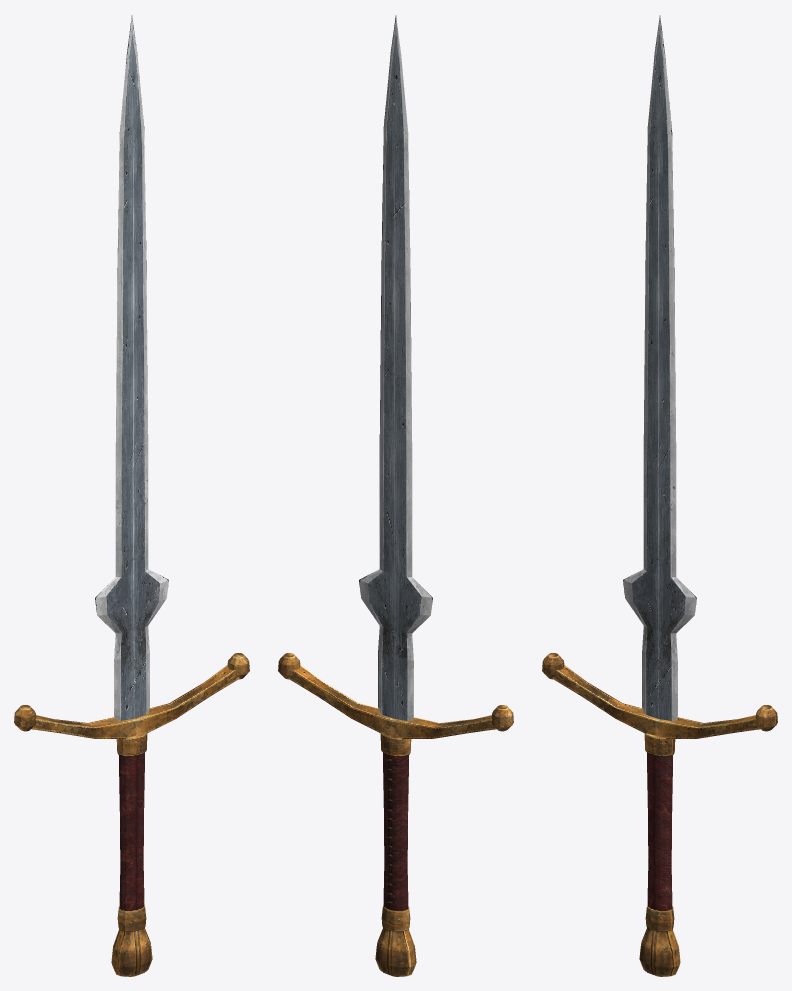
Rendered from claymore.glb.
3 views of the same model, side by side, from view 1: azimuth 30°, elevation 25°; view 2: azimuth 150°, elevation 25°; view 3: azimuth 330°, elevation 25° (orthographic).
Visible parts, largest first — view 1: Ridge_Blade_With_Integral_Parrying_Lugs, Long_Oxblood_Leather_Grip, Uplifted_Long_Bronze_Quillons, Flattened_Pear_Bronze_Pommel, Bronze_Grip_Ferrules, Upper_Bronze_Collar; view 2: Ridge_Blade_With_Integral_Parrying_Lugs, Long_Oxblood_Leather_Grip, Uplifted_Long_Bronze_Quillons, Flattened_Pear_Bronze_Pommel, Bronze_Grip_Ferrules, Upper_Bronze_Collar; view 3: Ridge_Blade_With_Integral_Parrying_Lugs, Long_Oxblood_Leather_Grip, Uplifted_Long_Bronze_Quillons, Flattened_Pear_Bronze_Pommel, Bronze_Grip_Ferrules, Upper_Bronze_Collar.
Boxes of the visible parts, x1=… form: Ridge_Blade_With_Integral_Parrying_Lugs: x1=95, y1=15, x2=168, y2=720; Long_Oxblood_Leather_Grip: x1=119, y1=753, x2=144, y2=910; Uplifted_Long_Bronze_Quillons: x1=30, y1=665, x2=240, y2=738; Flattened_Pear_Bronze_Pommel: x1=111, y1=927, x2=152, y2=976; Bronze_Grip_Ferrules: x1=117, y1=905, x2=146, y2=931; Upper_Bronze_Collar: x1=116, y1=733, x2=147, y2=756; Ridge_Blade_With_Integral_Parrying_Lugs: x1=359, y1=15, x2=432, y2=720; Long_Oxblood_Leather_Grip: x1=383, y1=753, x2=408, y2=910; Uplifted_Long_Bronze_Quillons: x1=287, y1=665, x2=497, y2=738; Flattened_Pear_Bronze_Pommel: x1=375, y1=927, x2=416, y2=976; Bronze_Grip_Ferrules: x1=381, y1=905, x2=410, y2=931; Upper_Bronze_Collar: x1=380, y1=733, x2=411, y2=756; Ridge_Blade_With_Integral_Parrying_Lugs: x1=623, y1=15, x2=696, y2=720; Long_Oxblood_Leather_Grip: x1=647, y1=753, x2=672, y2=910; Uplifted_Long_Bronze_Quillons: x1=551, y1=665, x2=761, y2=738; Flattened_Pear_Bronze_Pommel: x1=639, y1=927, x2=680, y2=976; Bronze_Grip_Ferrules: x1=645, y1=905, x2=674, y2=931; Upper_Bronze_Collar: x1=644, y1=733, x2=675, y2=756.
Size of the model in its own units: 0.402 by 1.58 by 0.042.
Materials: 1 (1 with a texture image).
